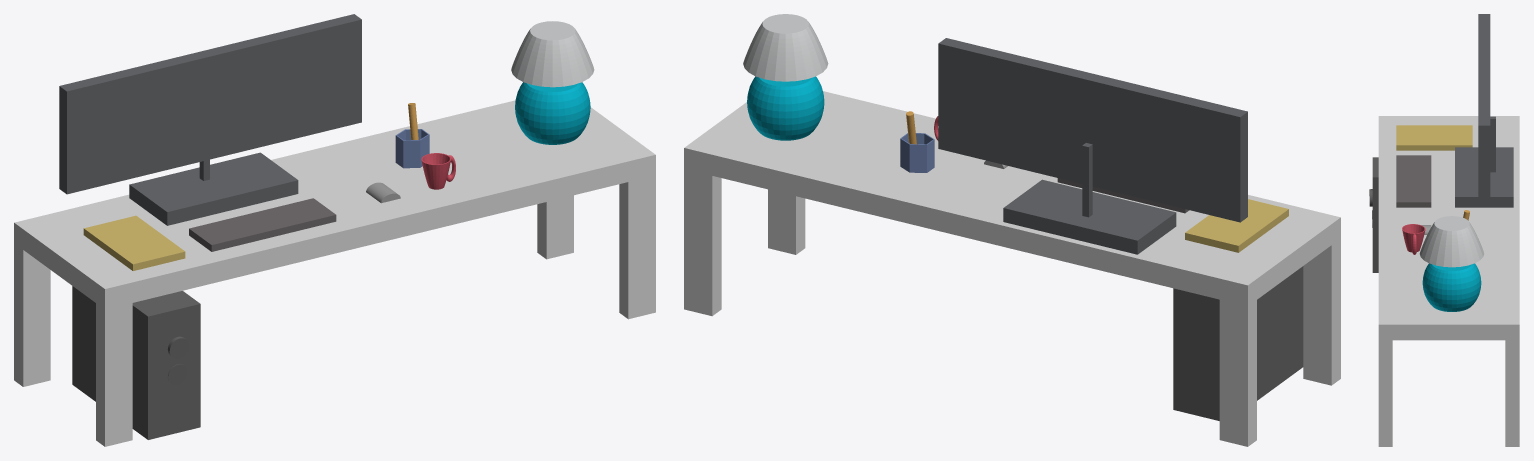
The model's file is C150-Exporting models in A-Frame.glb.
3 renders of one model, left to right at view 1: azimuth 30°, elevation 25°; view 2: azimuth 150°, elevation 25°; view 3: azimuth 270°, elevation 25°, orthographic. The views are drawn at different scales.
Visible parts, largest first — view 1: Mesh_Mesh_head_geo.001_lambert2SG.001; view 2: Mesh_Mesh_head_geo.001_lambert2SG.001; view 3: Mesh_Mesh_head_geo.001_lambert2SG.001.
Boxes of the visible parts, bbox=[...] form: Mesh_Mesh_head_geo.001_lambert2SG.001: bbox=[14, 14, 655, 446]; Mesh_Mesh_head_geo.001_lambert2SG.001: bbox=[684, 14, 1340, 446]; Mesh_Mesh_head_geo.001_lambert2SG.001: bbox=[1369, 14, 1519, 446].
Bounding box in the file's own units: 84 × 44 × 25.55.
